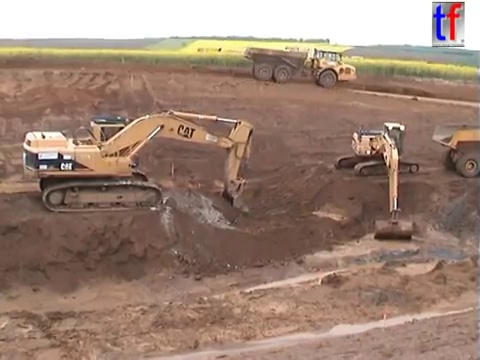excavator: (20, 107, 258, 221), (331, 119, 423, 241)
truck: (241, 42, 359, 90), (429, 121, 480, 181)
